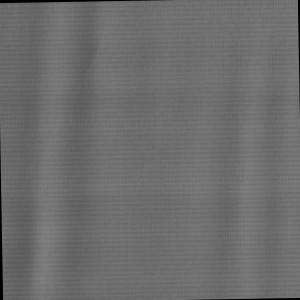Wrinkle: (1, 1, 107, 300), (200, 31, 300, 300)
